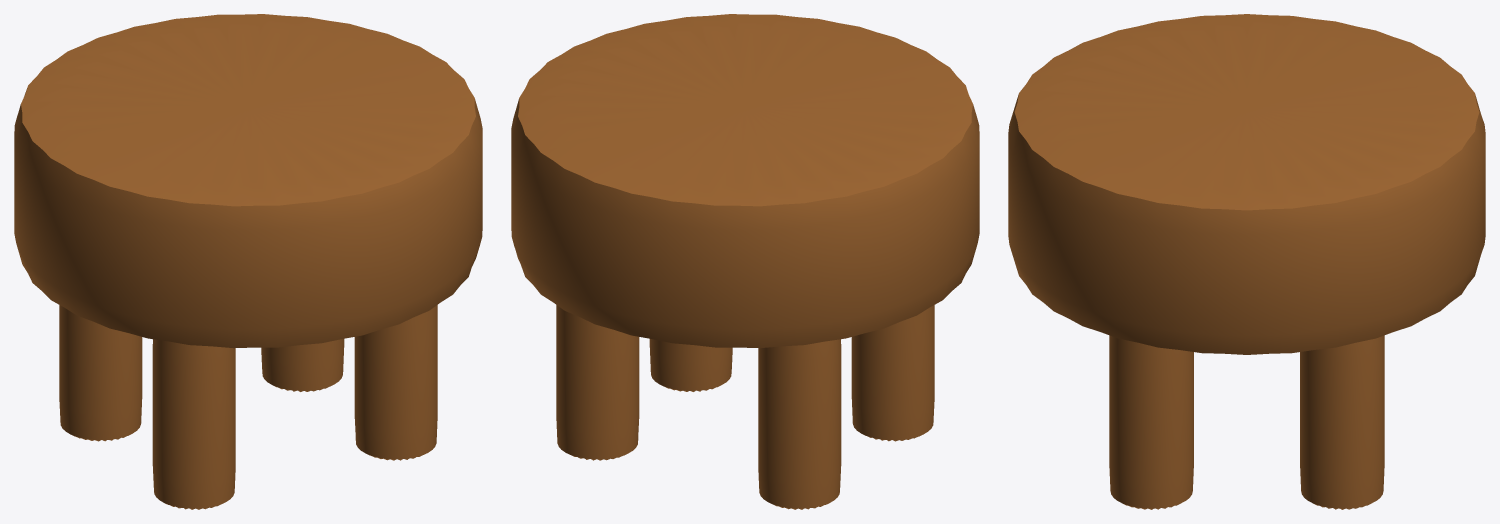
The model's file is NightStandWood.fbx.
3 renders of one model, left to right at view 1: azimuth 30°, elevation 25°; view 2: azimuth 150°, elevation 25°; view 3: azimuth 270°, elevation 25°, orthographic.
Parts seen in each view (by area): view 1: NightStandWood.001; view 2: NightStandWood.001; view 3: NightStandWood.001.
Part boxes in pixels (x1=…): NightStandWood.001: x1=14, y1=14, x2=482, y2=509; NightStandWood.001: x1=511, y1=14, x2=979, y2=509; NightStandWood.001: x1=1008, y1=14, x2=1485, y2=509.
Bounding box in the file's own units: 0.3944 × 0.3944 × 0.306.
